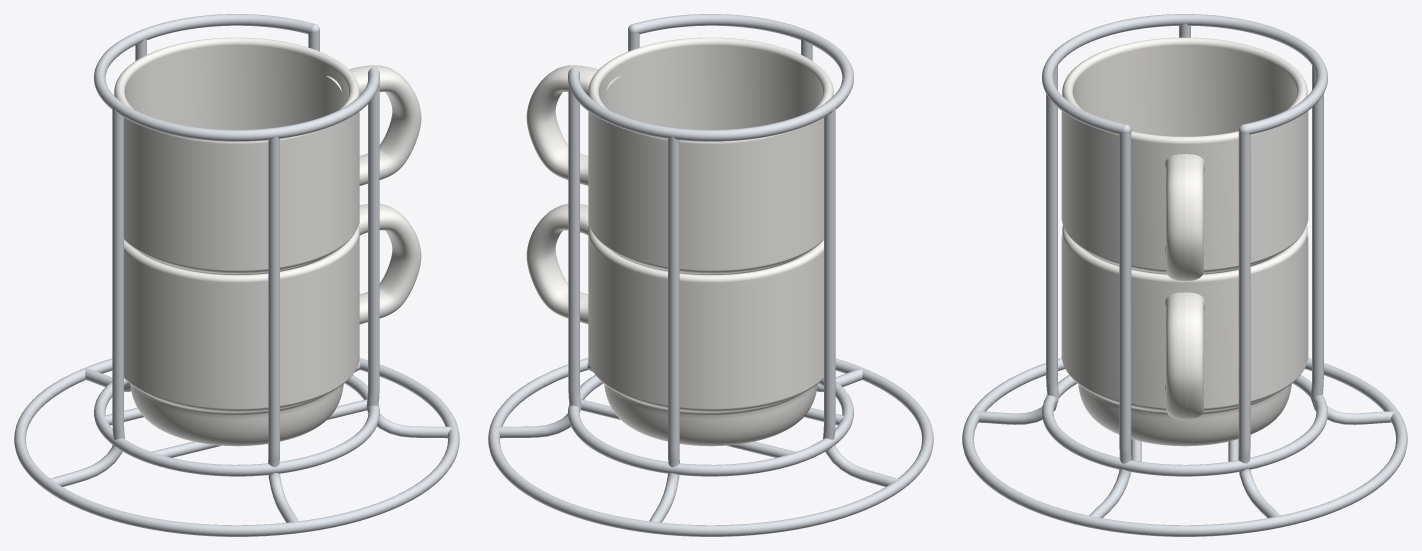
The model's file is torre_2_xicaras.glb.
The picture shows the model from 3 angles, left to right: view 1: azimuth 30°, elevation 25°; view 2: azimuth 150°, elevation 25°; view 3: azimuth 270°, elevation 25°; orthographic projection.
Visible parts, largest first — view 1: Xicara_Inferior_Area_Arte, Xicara_Superior_Area_Arte, Xicara_Superior_Interior, Xicara_Inferior_Corpo, Anel_Base_Externo, Anel_Superior_Aberto, Haste_Vertical_4, Haste_Vertical_1, Anel_Base_Interno, Haste_Vertical_3, Xicara_Superior_Alca, Xicara_Inferior_Alca (+3 smaller); view 2: Xicara_Inferior_Area_Arte, Xicara_Superior_Area_Arte, Xicara_Superior_Interior, Xicara_Inferior_Corpo, Anel_Base_Externo, Anel_Superior_Aberto, Haste_Vertical_4, Haste_Vertical_2, Anel_Base_Interno, Haste_Vertical_5, Xicara_Superior_Alca, Xicara_Inferior_Alca (+3 smaller); view 3: Xicara_Inferior_Corpo, Xicara_Superior_Interior, Xicara_Superior_Corpo, Xicara_Inferior_Area_Arte, Xicara_Superior_Area_Arte, Anel_Base_Externo, Anel_Superior_Aberto, Haste_Vertical_1, Haste_Vertical_2, Xicara_Superior_Alca, Xicara_Inferior_Alca, Anel_Base_Interno (+2 smaller).
Part boxes in pixels (<box>): Xicara_Inferior_Area_Arte: <box>124,239,359,407</box>; Xicara_Superior_Area_Arte: <box>124,111,359,269</box>; Xicara_Superior_Interior: <box>119,38,354,129</box>; Xicara_Inferior_Corpo: <box>124,225,359,446</box>; Anel_Base_Externo: <box>14,358,459,536</box>; Anel_Superior_Aberto: <box>94,14,379,141</box>; Haste_Vertical_4: <box>49,108,124,486</box>; Haste_Vertical_1: <box>366,75,452,438</box>; Anel_Base_Interno: <box>94,375,379,476</box>; Haste_Vertical_3: <box>268,136,298,522</box>; Xicara_Superior_Alca: <box>326,65,421,185</box>; Xicara_Inferior_Alca: <box>359,204,421,324</box>; Xicara_Inferior_Area_Arte: <box>588,239,823,407</box>; Xicara_Superior_Area_Arte: <box>588,111,823,269</box>; Xicara_Superior_Interior: <box>593,38,828,129</box>; Xicara_Inferior_Corpo: <box>588,225,823,446</box>; Anel_Base_Externo: <box>488,358,933,536</box>; Anel_Superior_Aberto: <box>568,14,853,141</box>; Haste_Vertical_4: <box>823,108,898,486</box>; Haste_Vertical_2: <box>495,75,581,438</box>; Anel_Base_Interno: <box>568,375,853,476</box>; Haste_Vertical_5: <box>649,136,679,522</box>; Xicara_Superior_Alca: <box>526,65,621,185</box>; Xicara_Inferior_Alca: <box>526,204,588,324</box>; Xicara_Inferior_Corpo: <box>1062,225,1307,446</box>; Xicara_Superior_Interior: <box>1067,38,1302,137</box>; Xicara_Superior_Corpo: <box>1062,37,1307,274</box>; Xicara_Inferior_Area_Arte: <box>1061,236,1308,397</box>; Xicara_Superior_Area_Arte: <box>1061,111,1308,258</box>; Anel_Base_Externo: <box>962,358,1407,536</box>; Anel_Superior_Aberto: <box>1042,14,1327,134</box>; Haste_Vertical_1: <box>1089,131,1131,518</box>; Haste_Vertical_2: <box>1238,131,1280,518</box>; Xicara_Superior_Alca: <box>1164,154,1205,281</box>; Xicara_Inferior_Alca: <box>1164,292,1205,419</box>; Anel_Base_Interno: <box>1042,375,1327,476</box>.
Bounding box in the file's own units: 0.1325 × 0.1221 × 0.1325.
Materials: 5 (2 with a texture image).
